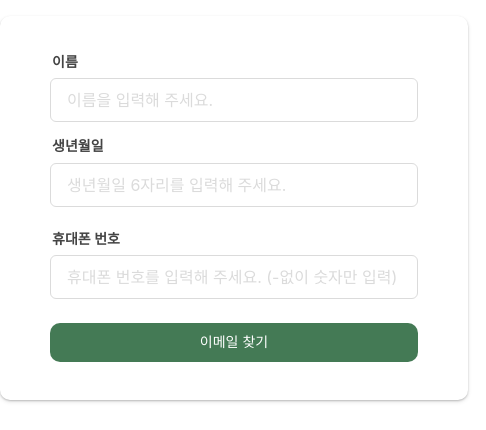
Scenario: 이메일 찾기 폼 테스트 › 각 인풋의 형식에 맞지 않는 값을 입력 후 포커스가 사라지면 에러 메시지가 화면에 보여야 한다.
Type "홍" into the field labelled "이름" at (234, 100), box [50, 78, 418, 122]
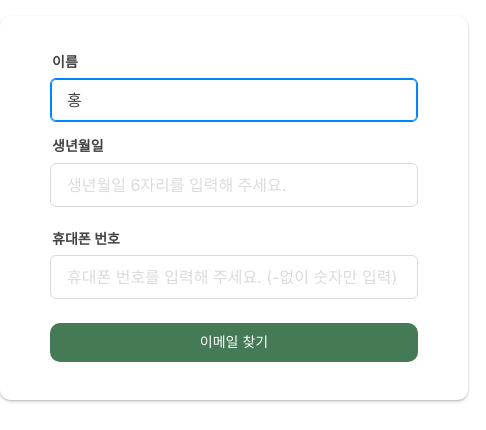
Click the form named "find-email" at (234, 208), box [0, 16, 468, 400]
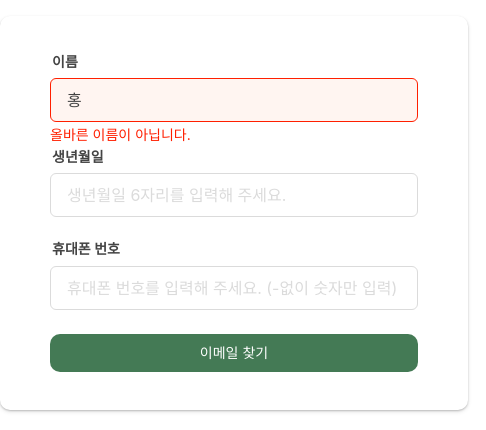
Now the text "올바른 이름이 아닙니다." is shown, box [50, 126, 191, 144]
